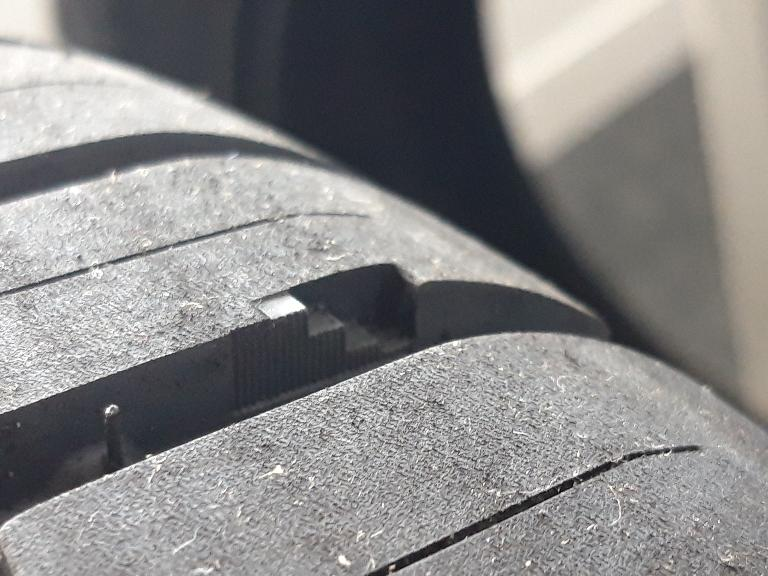temoin:75: (242, 253, 435, 394)
